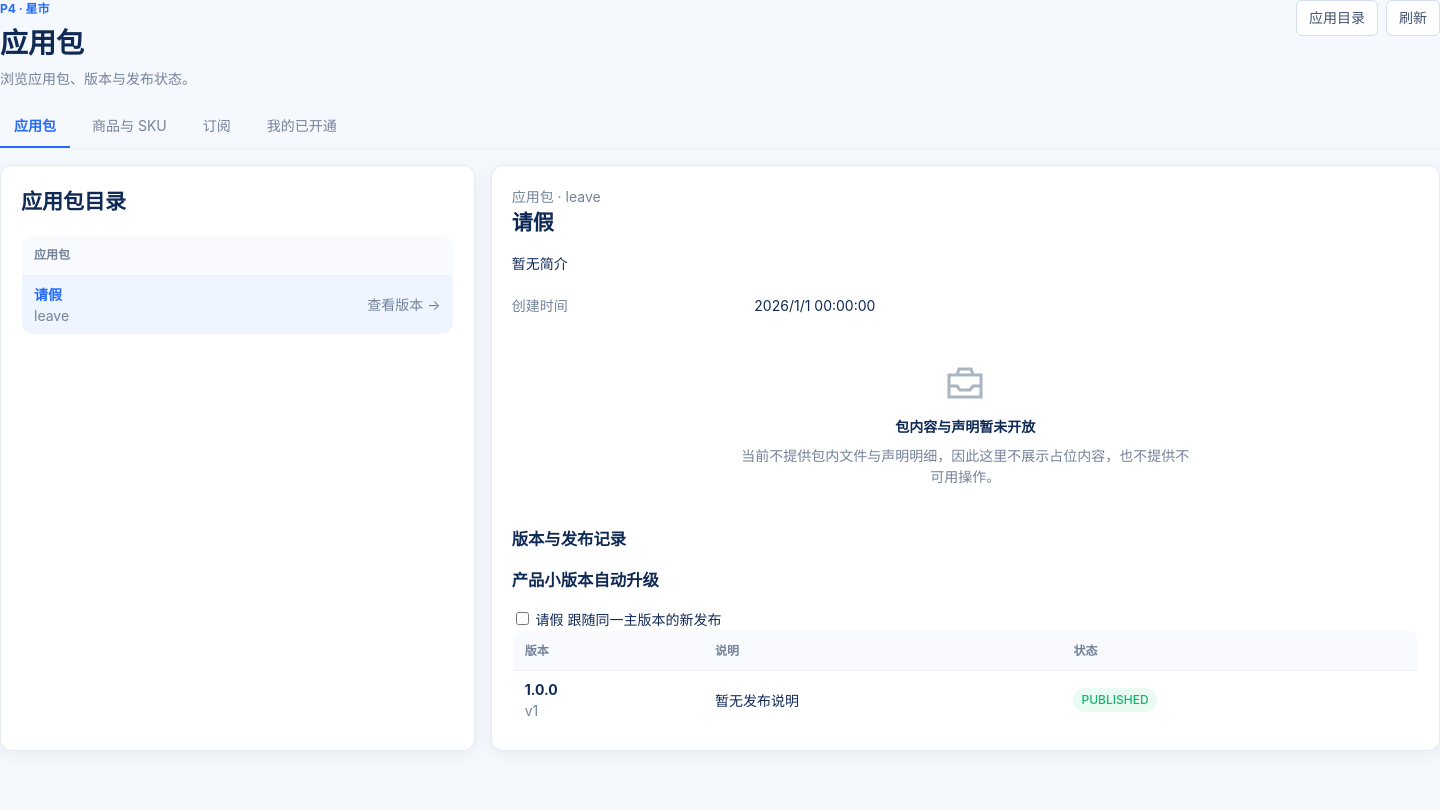
Test: PLB8 instance upgrade › lets a platform operator turn on same-major automatic upgrade
This screenshot has width=1440, height=810.
Click the checkbox with test id "auto-upgrade-pl_leave". click: (522, 619)
box: [516, 612, 529, 625]
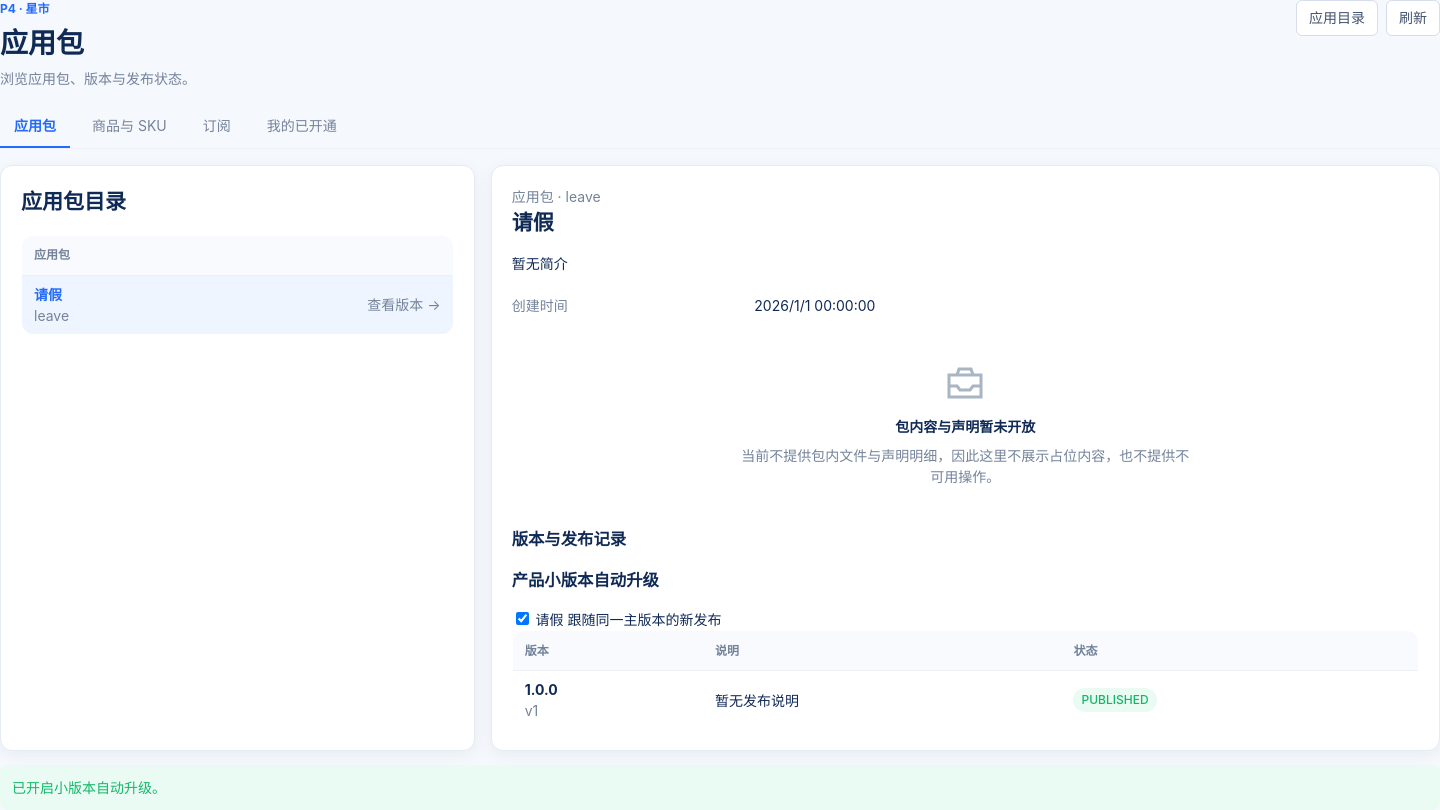
Expected: the text "已开启小版本自动升级" is shown, [12, 779, 166, 796]
